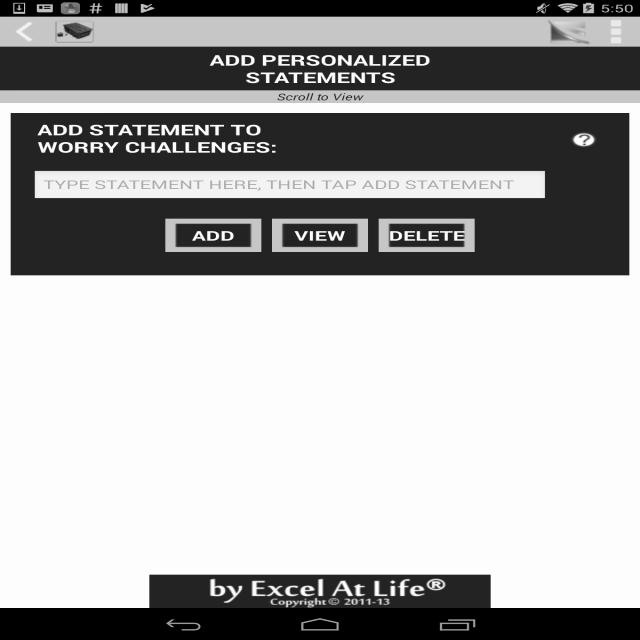Button: (166, 220, 262, 252), (272, 220, 368, 252), (378, 220, 474, 252), (48, 16, 101, 46), (0, 16, 48, 46), (544, 16, 592, 46), (571, 131, 597, 148)
EditText: (32, 170, 548, 202)
Spinner: (592, 16, 640, 46)
TextView: (0, 47, 640, 90), (32, 113, 538, 163), (0, 90, 640, 103), (592, 17, 635, 29)
